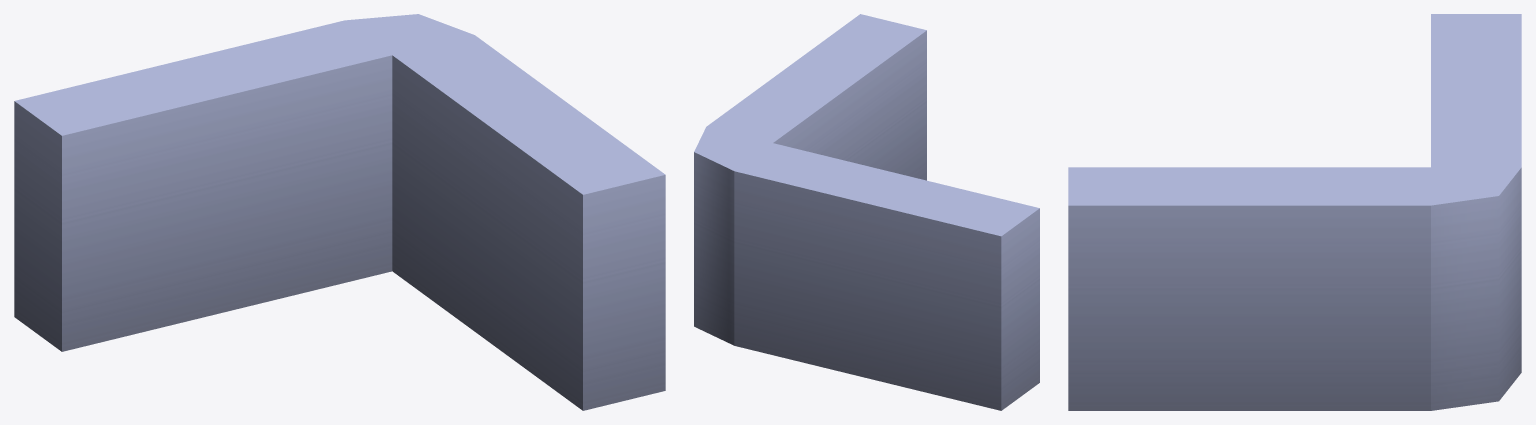
Rendered from wall-corner-rounded-low.fbx.
3 renders of one model, left to right at view 1: azimuth 30°, elevation 25°; view 2: azimuth 150°, elevation 25°; view 3: azimuth 270°, elevation 25°, orthographic. The views are drawn at different scales.
Visible parts, largest first — view 1: wall-corner-rounded-low; view 2: wall-corner-rounded-low; view 3: wall-corner-rounded-low.
Boxes of the visible parts, bbox=[...] form: wall-corner-rounded-low: bbox=[14, 14, 665, 410]; wall-corner-rounded-low: bbox=[694, 14, 1039, 410]; wall-corner-rounded-low: bbox=[1068, 14, 1521, 410].
Size of the model in its own units: 100 by 50 by 100.
